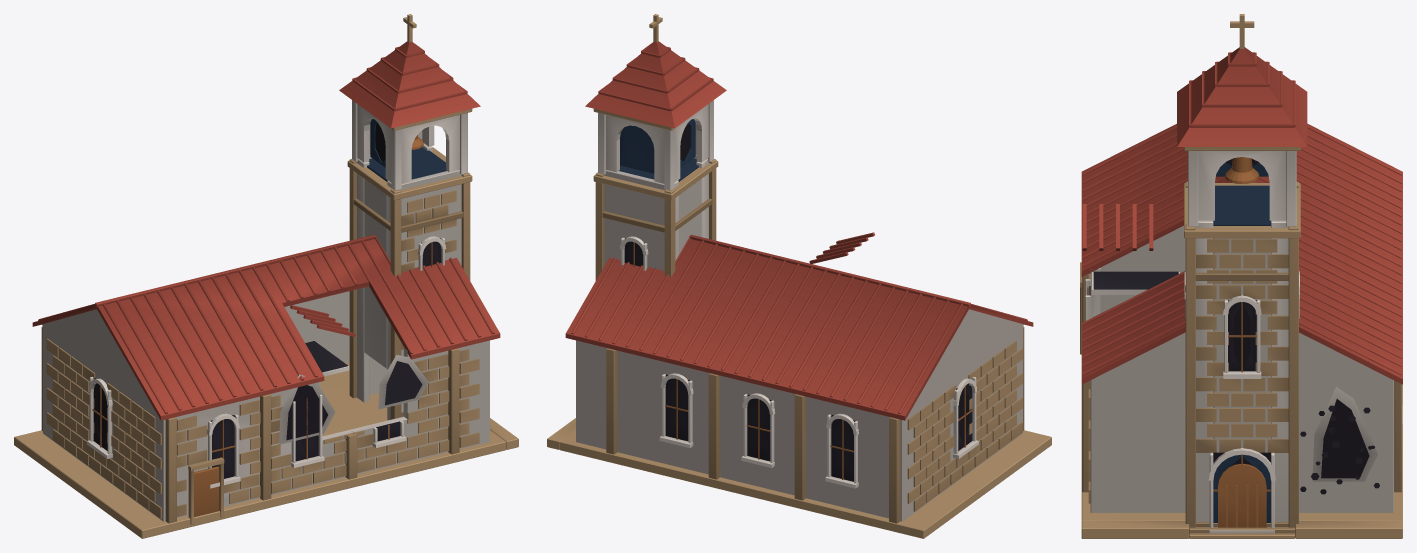
The picture shows the model from 3 angles, left to right: view 1: azimuth 30°, elevation 25°; view 2: azimuth 150°, elevation 25°; view 3: azimuth 270°, elevation 25°; orthographic projection. The views are drawn at different scales.
Parts seen in each view (by area): view 1: body_pal_khaki, roof_pal_brick, body_pal_picketWhite, body_pal_uiDark, body_pal_woodWarm, body_pal_blueTrim; view 2: roof_pal_brick, body_pal_picketWhite, body_pal_khaki, body_pal_uiDark, body_pal_blueTrim, body_pal_woodWarm; view 3: roof_pal_brick, body_pal_picketWhite, body_pal_khaki, body_pal_uiDark, body_pal_blueTrim, door_front_pal_woodWarm, body_pal_woodWarm.
Boxes of the visible parts, x1,y1,x2,y2 form: body_pal_khaki: (14,14,518,538); roof_pal_brick: (32,41,500,420); body_pal_picketWhite: (41,100,489,521); body_pal_uiDark: (93,123,441,478); body_pal_woodWarm: (92,135,432,517); body_pal_blueTrim: (367,119,446,181); roof_pal_brick: (565,41,1033,420); body_pal_picketWhite: (576,100,1024,521); body_pal_khaki: (547,14,1051,538); body_pal_uiDark: (624,123,972,481); body_pal_blueTrim: (619,119,698,181); body_pal_woodWarm: (633,242,973,479); roof_pal_brick: (1081,47,1402,384); body_pal_picketWhite: (1085,151,1402,533); body_pal_khaki: (1080,14,1402,538); body_pal_uiDark: (1089,159,1379,494); body_pal_blueTrim: (1213,162,1270,522); door_front_pal_woodWarm: (1218,463,1266,527); body_pal_woodWarm: (1087,157,1270,491).
Size of the model in its own units: 18 by 18.08 by 10.65.
